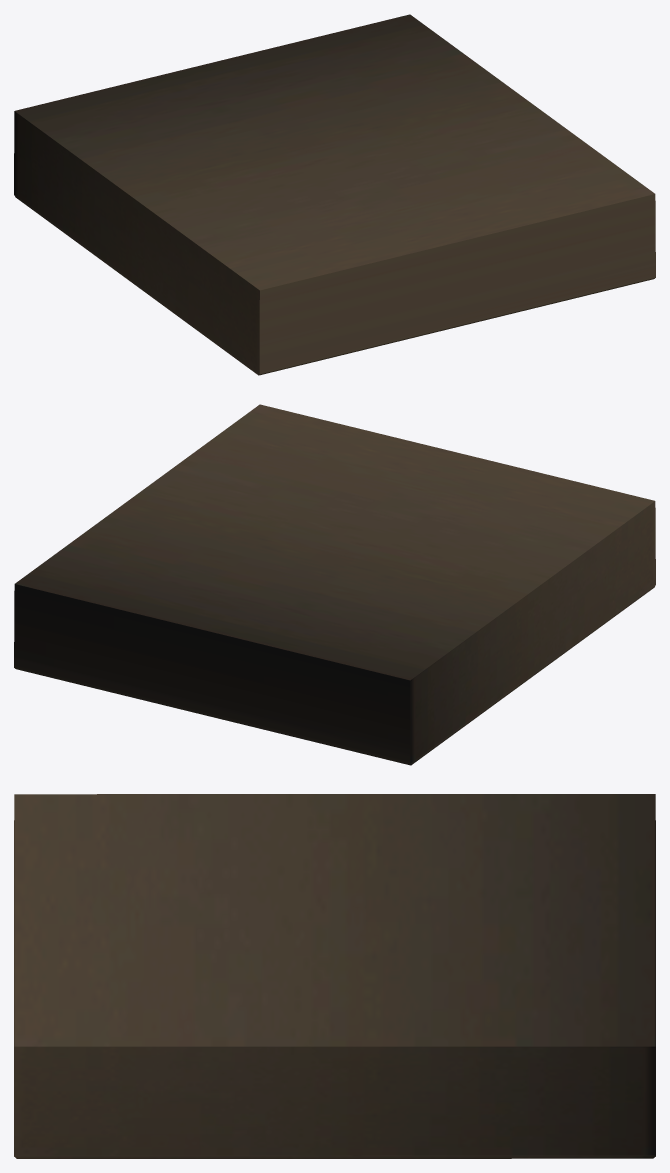
The model's file is nt_2020_bookshelf_01_LOD1.obj.
The picture shows the model from 3 angles, top to bottom: view 1: azimuth 30°, elevation 25°; view 2: azimuth 150°, elevation 25°; view 3: azimuth 270°, elevation 25°; orthographic projection. The views are drawn at different scales.
Parts seen in each view (by area): view 1: mtl_nt_2020_bookshelf_01; view 2: mtl_nt_2020_bookshelf_01; view 3: mtl_nt_2020_bookshelf_01.
Boxes of the visible parts, x1,y1,x2,y2 form: mtl_nt_2020_bookshelf_01: (14, 14, 655, 375); mtl_nt_2020_bookshelf_01: (14, 404, 655, 765); mtl_nt_2020_bookshelf_01: (14, 794, 655, 1158).
Size of the model in its own units: 199 by 41.21 by 214.
